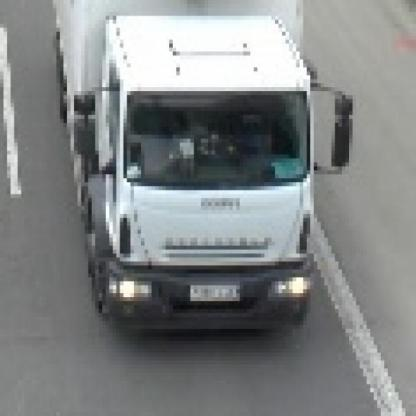truck: (47, 1, 350, 334)
